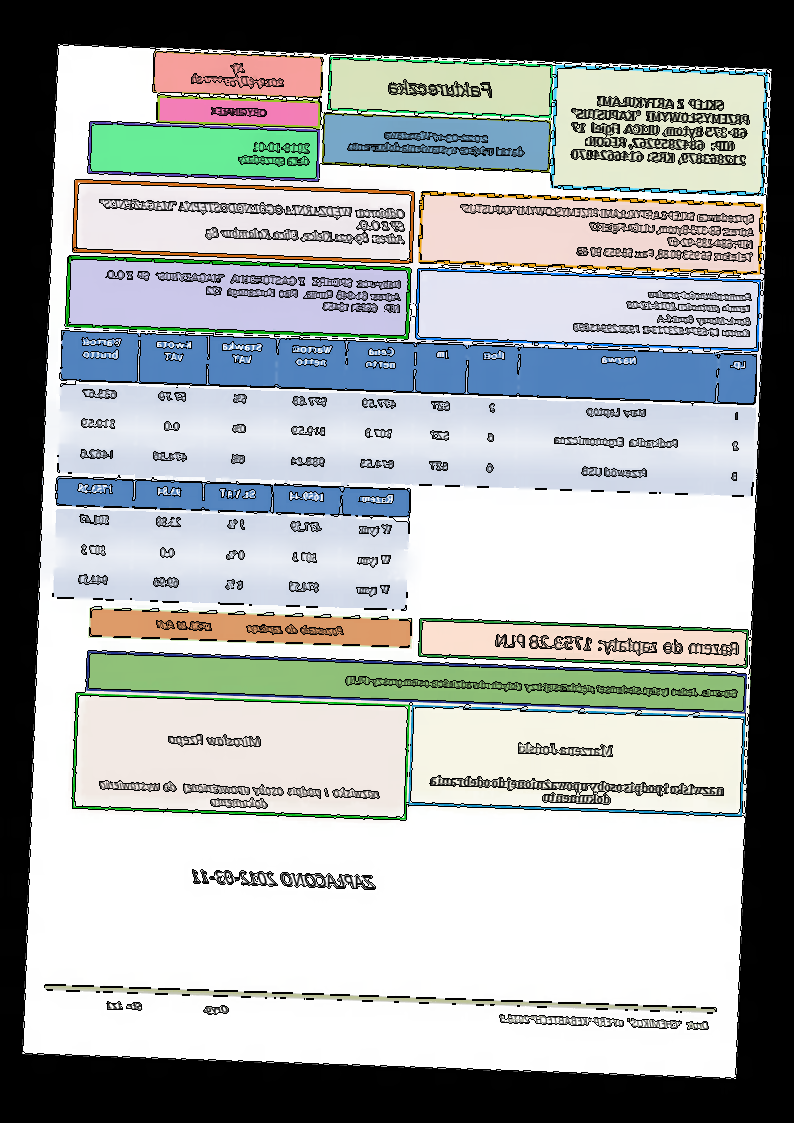Table: (55, 328, 759, 499), (51, 473, 412, 609)
TextBox: (459, 199, 758, 266), (95, 193, 408, 249), (102, 266, 402, 316), (568, 90, 754, 169), (342, 672, 741, 703), (427, 772, 727, 811), (97, 775, 383, 814), (571, 284, 754, 340), (494, 628, 743, 660), (345, 125, 527, 160), (187, 863, 378, 894), (495, 1009, 712, 1033), (153, 616, 348, 639), (189, 59, 287, 92), (386, 74, 497, 103), (516, 736, 618, 761), (104, 998, 232, 1017), (238, 137, 313, 169), (165, 728, 264, 751), (211, 102, 270, 120)
